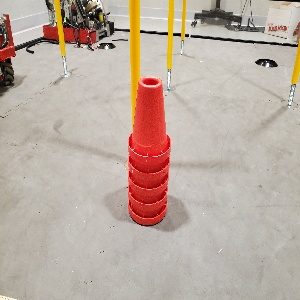Red_5: (125, 67, 172, 229)
